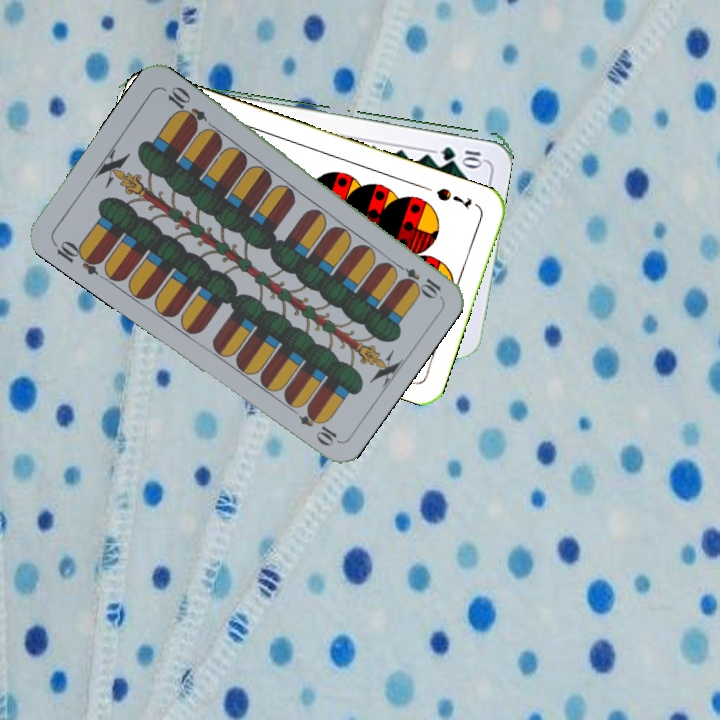E10: (49, 236, 105, 278), (389, 258, 444, 299)
G10: (437, 142, 486, 165)
S7: (431, 184, 475, 211)
